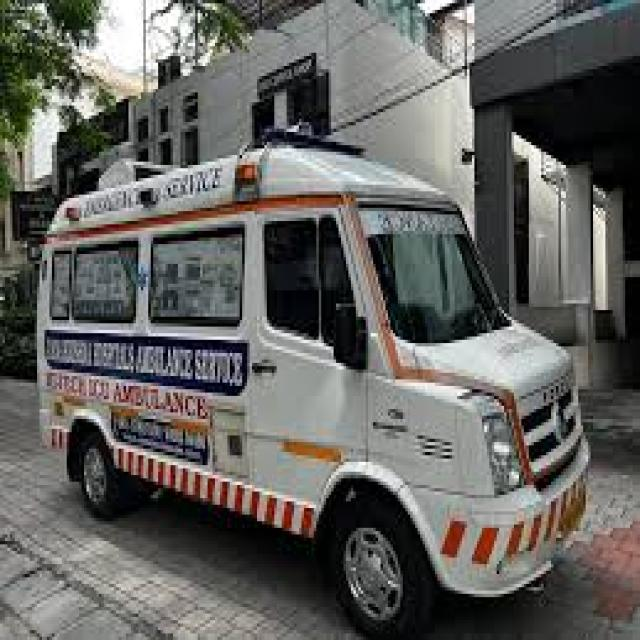ambulance: (40, 142, 588, 594)
